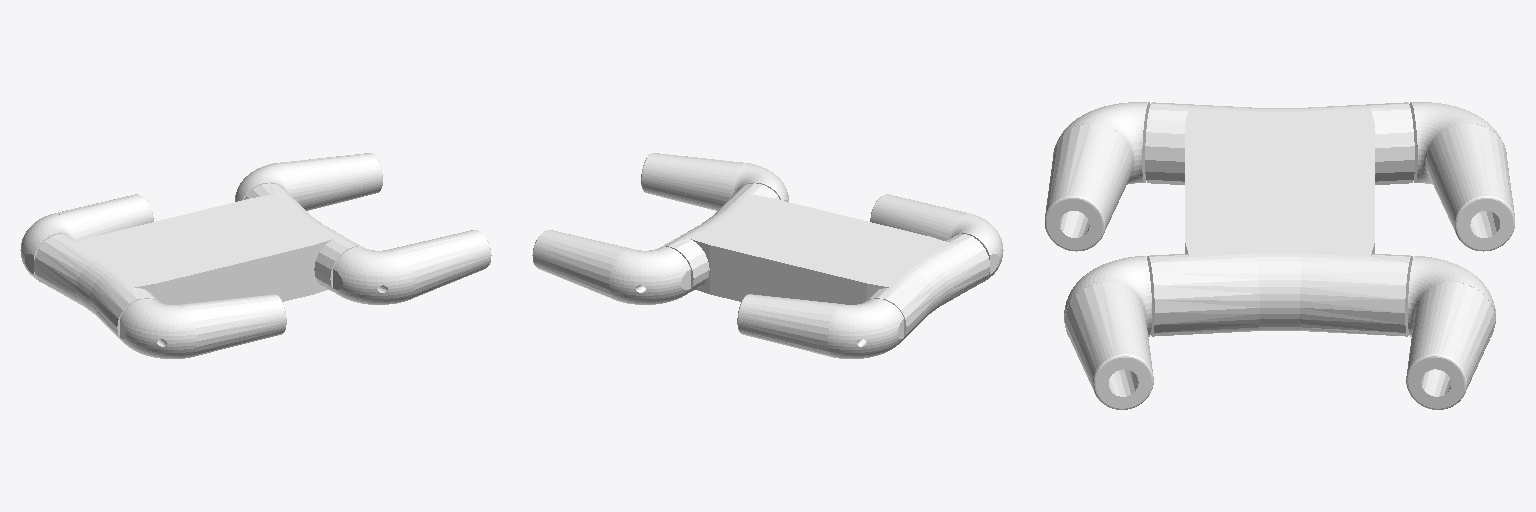
The robot description file, URDF, robot "7_degree":
<?xml version="1.0" encoding="utf-8"?>
<!-- This URDF was automatically created by SolidWorks to URDF Exporter! Originally created by [author] ([email redacted]) 
     Commit Version: 1.5.1-0-g916b5db  Build Version: 1.5.7152.31018
     For more information, please see http://wiki.ros.org/sw_urdf_exporter -->
<robot
  name="7_degree">
  <link
    name="base_link">
    <inertial>
      <origin
        xyz="3.4694E-17 1.8731E-08 1.7347E-18"
        rpy="0 0 0" />
      <mass
        value="2.942" />
      <inertia
        ixx="0.0102440"
        ixy="2.5146E-18"
        ixz="-1.5123E-10"
        iyy="0.0398861"
        iyz="2.7057E-18"
        izz="0.0477409" />
    </inertial>
    <visual>
      <origin
        xyz="0 0 0"
        rpy="0 0 0" />
      <geometry>
        <mesh
          filename="package://7_degree/meshes/base_link.STL" />
      </geometry>
      <material
        name="">
        <color
          rgba="1 1 1 1" />
      </material>
    </visual>
    <collision>
      <origin
        xyz="0 0 0"
        rpy="0 0 0" />
      <geometry>
        <mesh
          filename="package://7_degree/meshes/base_link.STL" />
      </geometry>
    </collision>
  </link>
  <link
    name="left_front_link">
    <inertial>
      <origin
        xyz="-2.9085E-08 0.060794 -0.028817"
        rpy="0 0 0" />
      <mass
        value="0.092" />
      <inertia
        ixx="0.0002604"
        ixy="4.8378E-10"
        ixz="1.0126E-09"
        iyy="0.0000502"
        iyz="-0.28E-05"
        izz="0.00026" />
    </inertial>
    <visual>
      <origin
        xyz="0 0 0"
        rpy="0 0 0" />
      <geometry>
        <mesh
          filename="package://7_degree/meshes/left_front_link.STL" />
      </geometry>
      <material
        name="">
        <color
          rgba="1 1 1 1" />
      </material>
    </visual>
    <collision>
      <origin
        xyz="0 0 0"
        rpy="0 0 0" />
      <geometry>
        <mesh
          filename="package://7_degree/meshes/left_front_link.STL" />
      </geometry>
    </collision>
  </link>
  <joint
    name="left_front_leg"
    type="continuous">
    <origin
      xyz="0.14255 0.10223 0"
      rpy="1.5708 1.5708 0" />
    <parent
      link="base_link" />
    <child
      link="left_front_link" />
    <axis
      xyz="0 0.12187 -0.99255" />
    <limit
      effort="5"
      velocity="487" />
  </joint>
  <link
    name="right_front_link">
    <inertial>
      <origin
        xyz="2.9085E-08 0.060794 0.028817"
        rpy="0 0 0" />
      <mass
        value="0.092" />
      <inertia
        ixx="0.0002604"
        ixy="-4.8378E-10"
        ixz="1.0126E-09"
        iyy="0.0000502"
        iyz="0.28E-05"
        izz="0.00026" />
    </inertial>
    <visual>
      <origin
        xyz="0 0 0"
        rpy="0 0 0" />
      <geometry>
        <mesh
          filename="package://7_degree/meshes/right_front_link.STL" />
      </geometry>
      <material
        name="">
        <color
          rgba="1 1 1 1" />
      </material>
    </visual>
    <collision>
      <origin
        xyz="0 0 0"
        rpy="0 0 0" />
      <geometry>
        <mesh
          filename="package://7_degree/meshes/right_front_link.STL" />
      </geometry>
    </collision>
  </link>
  <joint
    name="right_front_leg"
    type="continuous">
    <origin
      xyz="0.14255 -0.10223 0"
      rpy="1.5708 1.5708 0" />
    <parent
      link="base_link" />
    <child
      link="right_front_link" />
    <axis
      xyz="0 0.12187 0.99255" />
    <limit
      effort="5"
      velocity="487" />
  </joint>
  <link
    name="right_back_link">
    <inertial>
      <origin
        xyz="4.9837E-09 0.05683 0.03601"
        rpy="0 0 0" />
      <mass
        value="0.092" />
      <inertia
        ixx="0.0002604"
        ixy="-6.7865E-10"
        ixz="6.7979E-10"
        iyy="0.0000526"
        iyz="-2.27E-05"
        izz="0.0002575" />
    </inertial>
    <visual>
      <origin
        xyz="0 0 0"
        rpy="0 0 0" />
      <geometry>
        <mesh
          filename="package://7_degree/meshes/right_back_link.STL" />
      </geometry>
      <material
        name="">
        <color
          rgba="1 1 1 1" />
      </material>
    </visual>
    <collision>
      <origin
        xyz="0 0 0"
        rpy="0 0 0" />
      <geometry>
        <mesh
          filename="package://7_degree/meshes/right_back_link.STL" />
      </geometry>
    </collision>
  </link>
  <joint
    name="right_back_leg"
    type="continuous">
    <origin
      xyz="-0.14255 -0.10223 0"
      rpy="1.693 1.5708 0" />
    <parent
      link="base_link" />
    <child
      link="right_back_link" />
    <axis
      xyz="0 0 1" />
    <limit
      effort="5"
      velocity="487" />
  </joint>
  <link
    name="left_back_link">
    <inertial>
      <origin
        xyz="-4.9837E-09 0.052018 -0.042668"
        rpy="0 0 0" />
      <mass
        value="0.092" />
      <inertia
        ixx="0.0002604"
        ixy="7.5644E-10"
        ixz="5.9202E-10"
        iyy="0.0000611"
        iyz="0.0000468"
        izz="0.000249" />
    </inertial>
    <visual>
      <origin
        xyz="0 0 0"
        rpy="0 0 0" />
      <geometry>
        <mesh
          filename="package://7_degree/meshes/left_back_link.STL" />
      </geometry>
      <material
        name="">
        <color
          rgba="1 1 1 1" />
      </material>
    </visual>
    <collision>
      <origin
        xyz="0 0 0"
        rpy="0 0 0" />
      <geometry>
        <mesh
          filename="package://7_degree/meshes/left_back_link.STL" />
      </geometry>
    </collision>
  </link>
  <joint
    name="left_back_leg"
    type="continuous">
    <origin
      xyz="-0.14255 0.10223 0"
      rpy="1.5708 1.5708 0" />
    <parent
      link="base_link" />
    <child
      link="left_back_link" />
    <axis
      xyz="0 -0.12187 -0.99255" />
    <limit
      effort="5"
      velocity="487" />
  </joint>
</robot>

--- What the picture shows (computed from the rendered views, not written in the file) ---
3 views of the same robot in one strip: view 1: azimuth 30°, elevation 25°; view 2: azimuth 150°, elevation 25°; view 3: azimuth 270°, elevation 25° (orthographic).
Robot: 7_degree — 5 links, 4 joints (4 continuous); root link base_link; default pose: all joints at 0.
Links seen in each view (by area): view 1: base_link, right_back_link, right_front_link, left_front_link, left_back_link; view 2: base_link, left_back_link, left_front_link, right_front_link, right_back_link; view 3: base_link, right_back_link, left_back_link, left_front_link, right_front_link.
Link boxes in pixels (x1,y1,x2,y2): base_link: [34, 183, 361, 340]; right_back_link: [120, 294, 286, 358]; right_front_link: [333, 230, 491, 304]; left_front_link: [235, 153, 382, 210]; left_back_link: [20, 194, 153, 282]; base_link: [662, 183, 989, 340]; left_back_link: [737, 294, 903, 358]; left_front_link: [532, 230, 690, 304]; right_front_link: [641, 153, 788, 210]; right_back_link: [870, 194, 1003, 282]; base_link: [1145, 102, 1414, 336]; right_back_link: [1045, 102, 1150, 251]; left_back_link: [1409, 102, 1514, 251]; left_front_link: [1406, 256, 1495, 409]; right_front_link: [1064, 256, 1153, 409].
Bounding box of the posed robot: 0.4813 × 0.3702 × 0.064 m (x, y, z).
5 mesh visuals loaded from 5 distinct referenced files (5 binary STL).